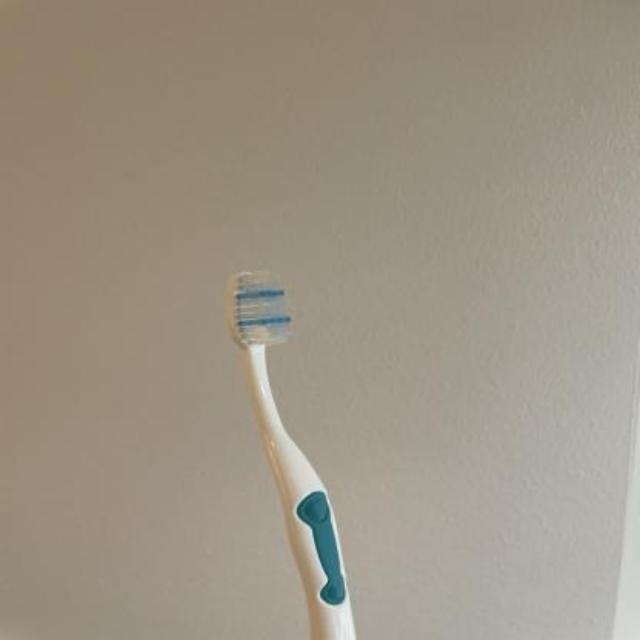toothbrush: (220, 258, 364, 640)
